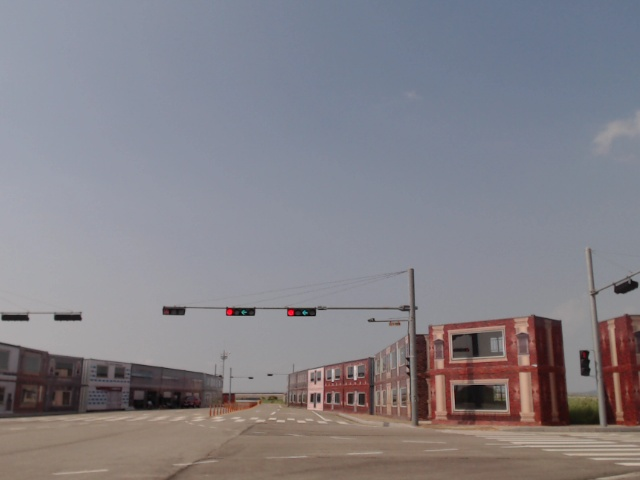left_green_4: (287, 308, 315, 317), (227, 308, 255, 316)
